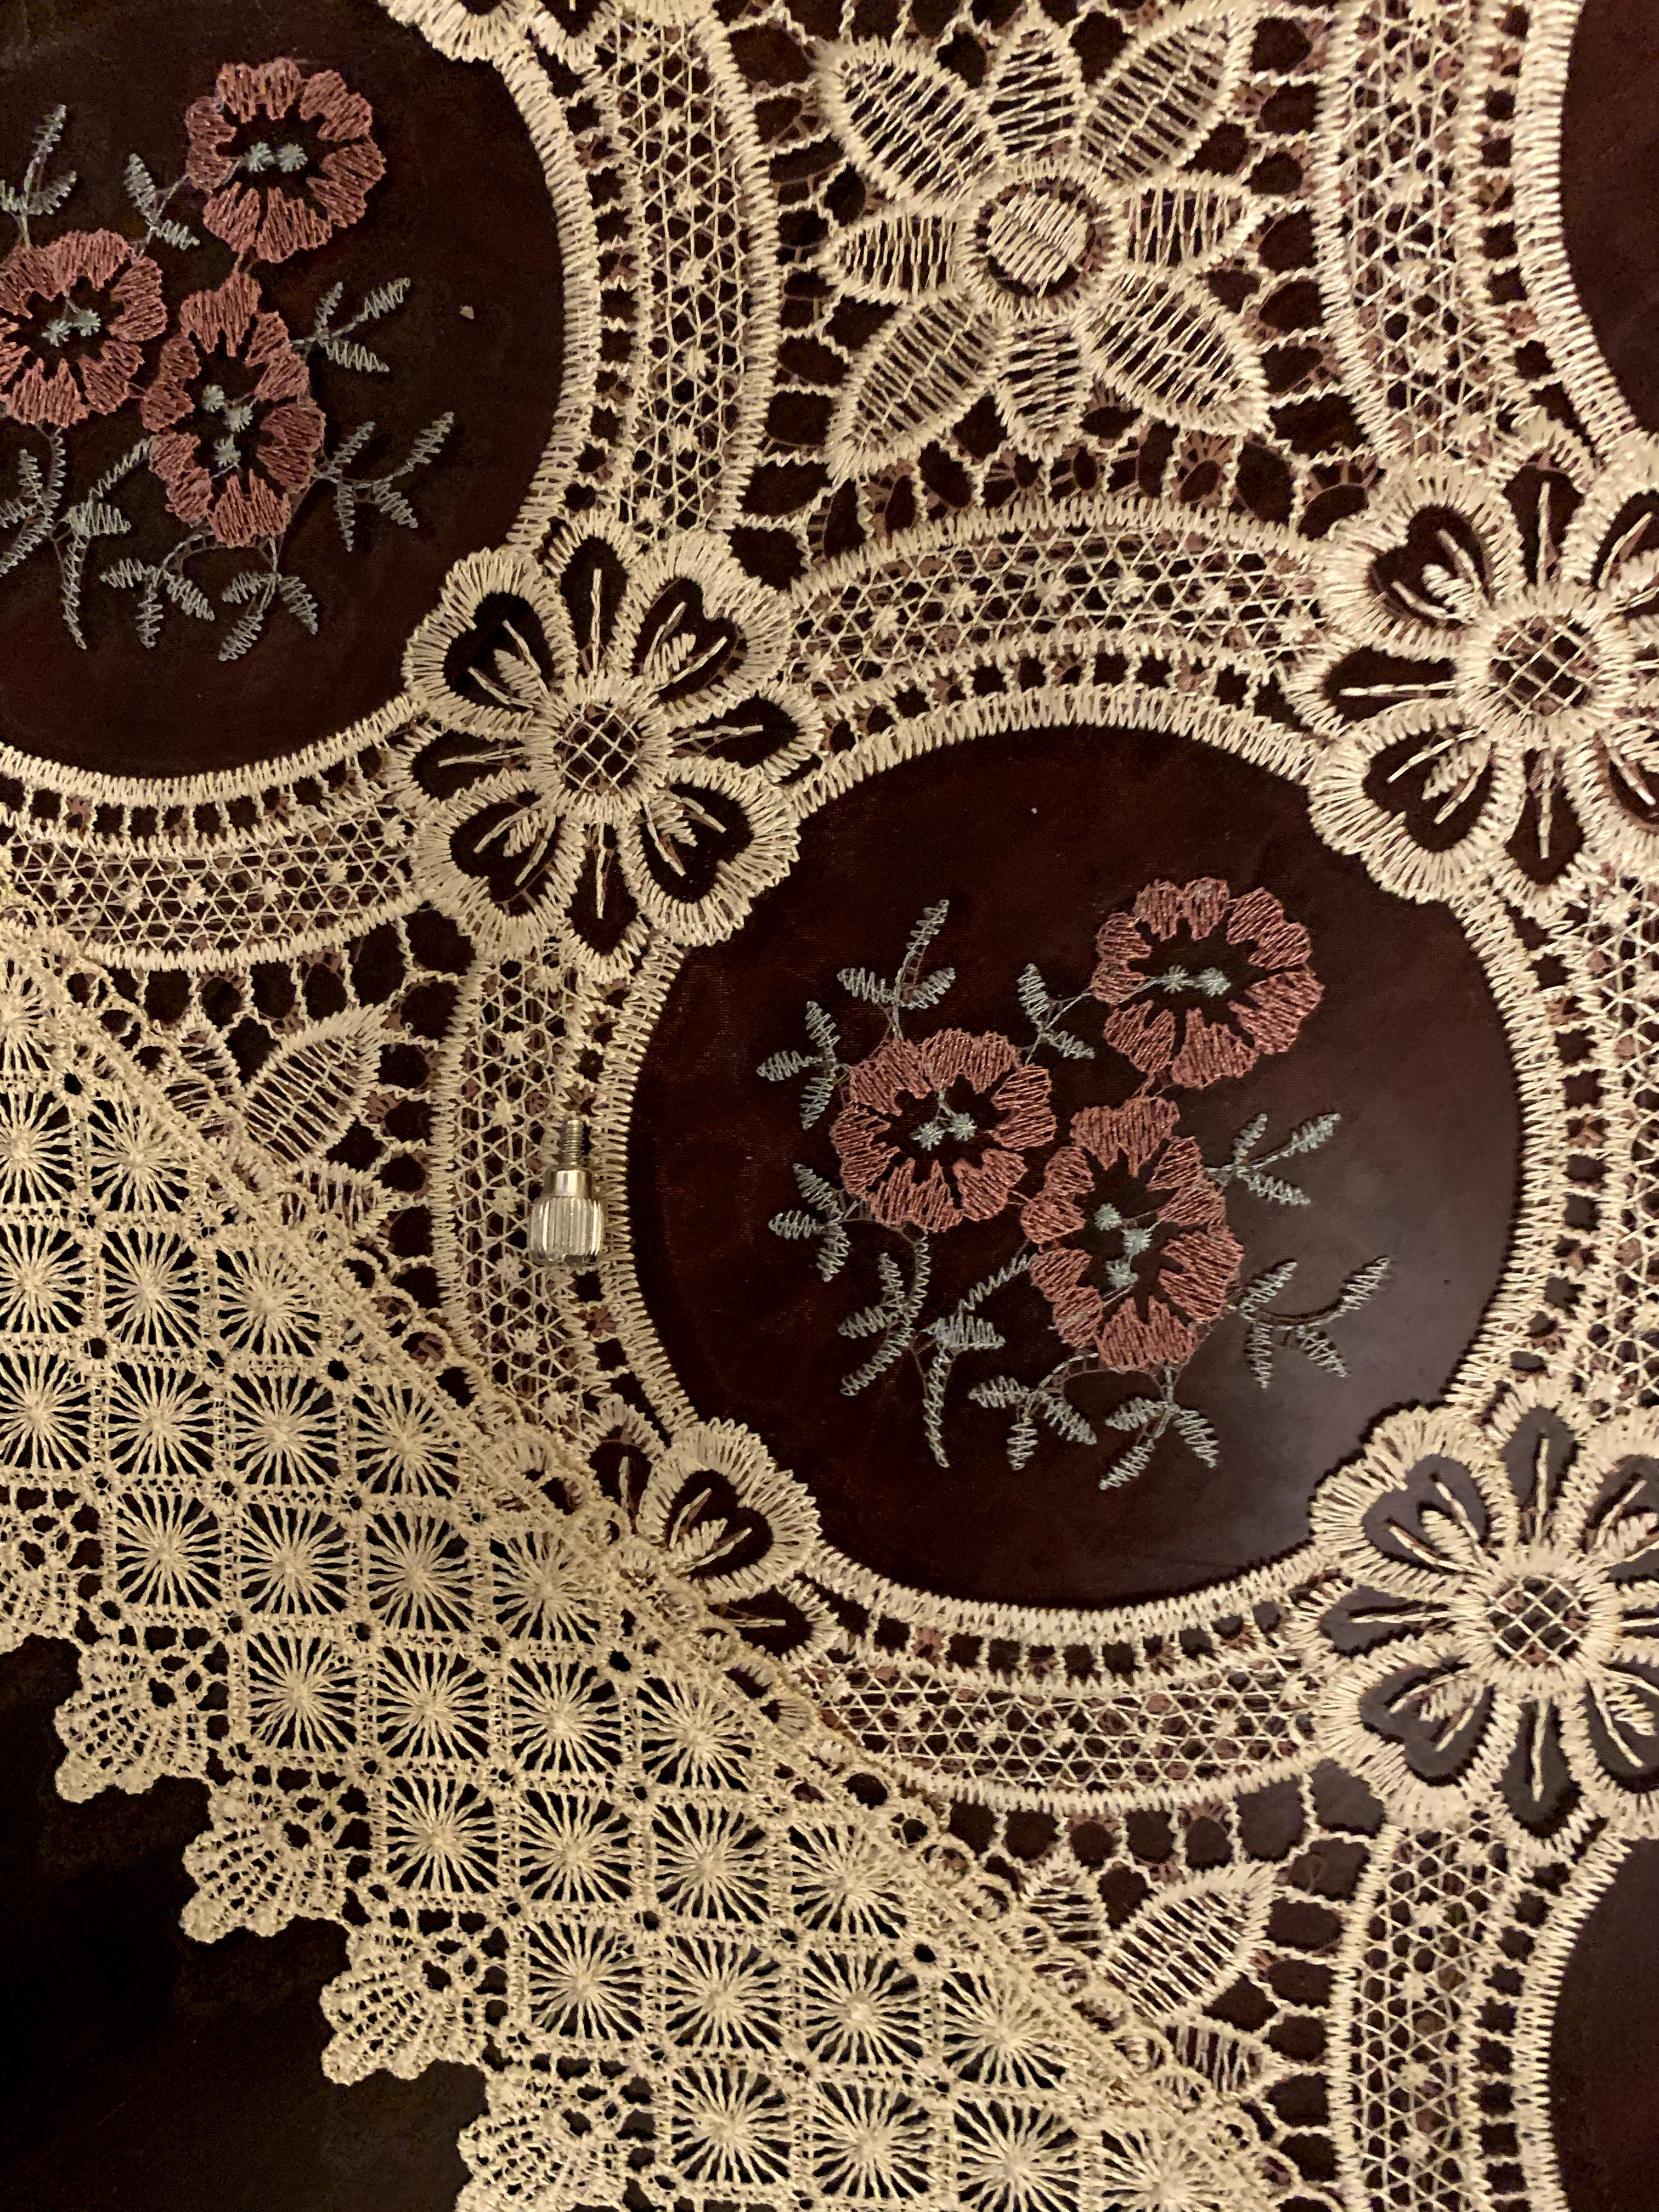Space-debris-small: (518, 1104, 627, 1285)
